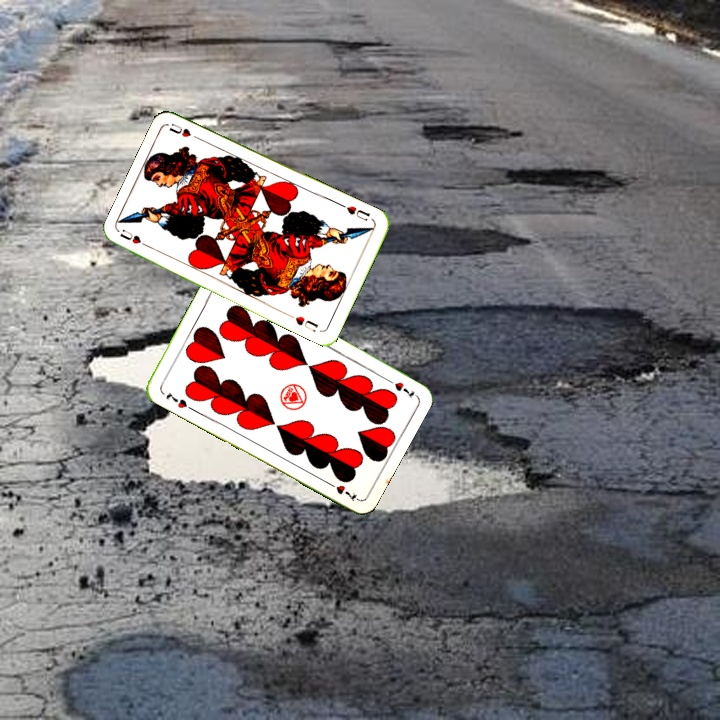H7: (381, 374, 417, 401), (162, 389, 190, 411)
HU: (116, 225, 154, 251), (337, 200, 373, 223)
